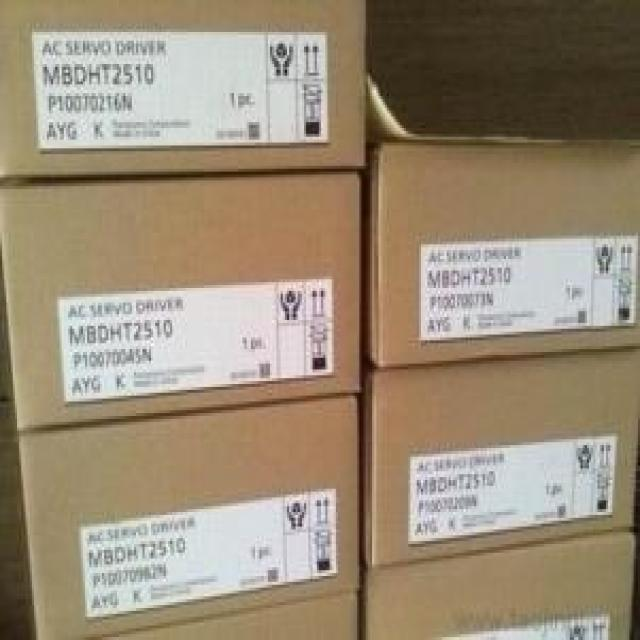box: (0, 172, 361, 433), (19, 396, 359, 640), (359, 137, 640, 369), (361, 346, 640, 567), (359, 527, 636, 640), (98, 593, 357, 640)
